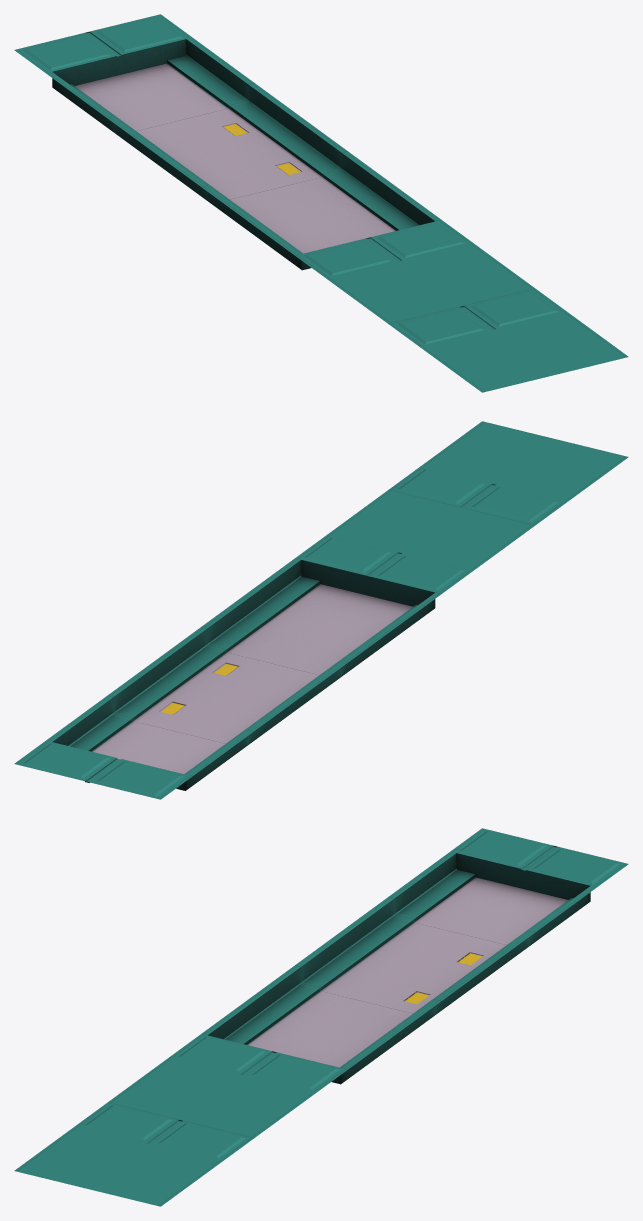
The model's file is sc_lvl1_floortile_02.FBX.
3 views of the same model, one above another, from view 1: azimuth 30°, elevation 25°; view 2: azimuth 150°, elevation 25°; view 3: azimuth 330°, elevation 25° (orthographic).
Parts seen in each view (by area): view 1: sc_lvl1_floortile_02; view 2: sc_lvl1_floortile_02; view 3: sc_lvl1_floortile_02.
Boxes of the visible parts, x1,y1,x2,y2 form: sc_lvl1_floortile_02: (14, 14, 628, 392); sc_lvl1_floortile_02: (14, 421, 628, 799); sc_lvl1_floortile_02: (14, 828, 628, 1206).
Size of the model in its own units: 18.1 by 2.52 by 100.
